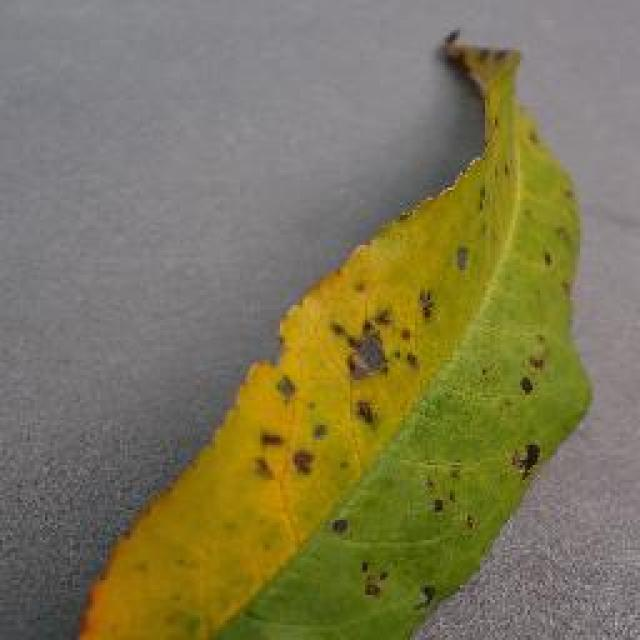Bacterial_spot: (220, 14, 586, 618)
